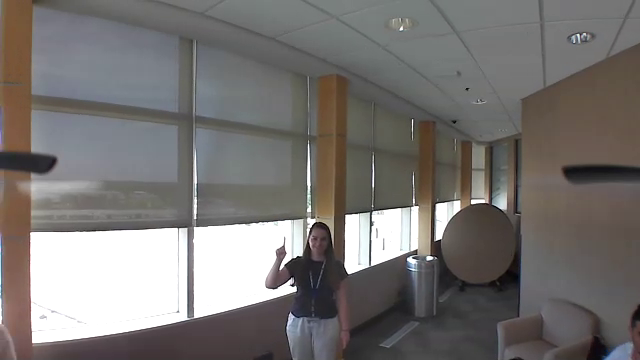up: (272, 234, 290, 261)
